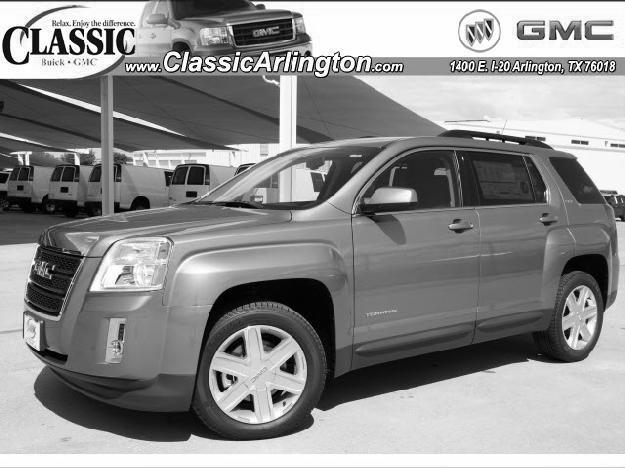car: (23, 130, 622, 441)
